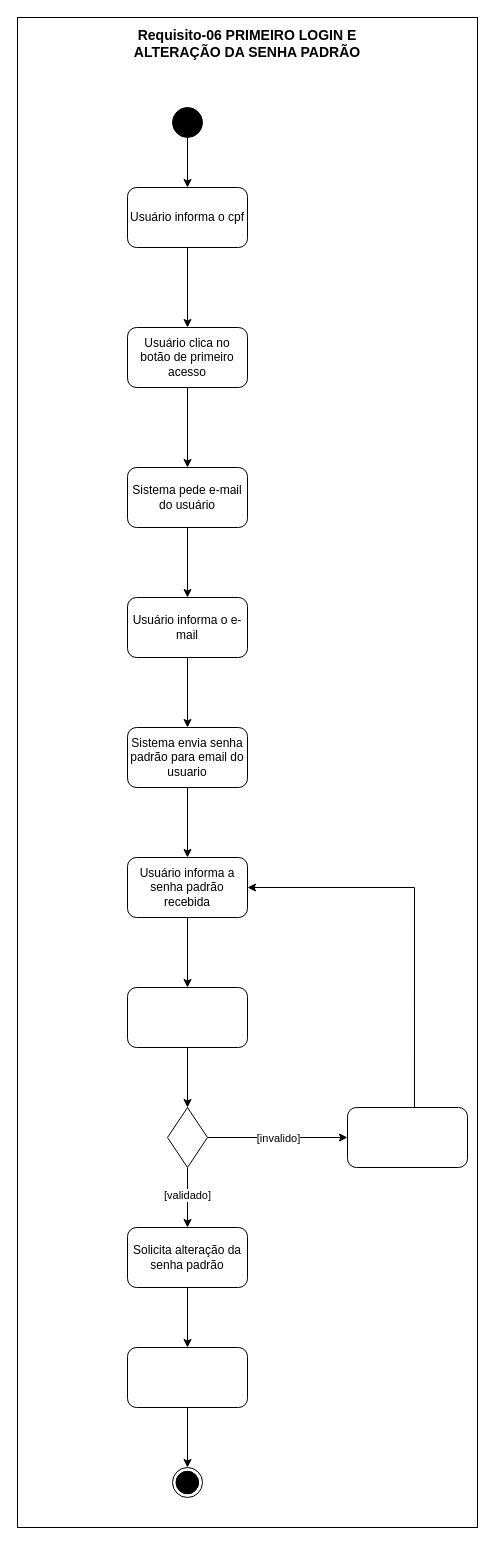
Image size: 495x1545. Some labels were removed from this diagram. Each missing label, with the box of its shape:
mensagem de erro para o usuário: (346, 1106, 468, 1168)
Sistema valida as credenciais: (126, 986, 248, 1048)
Usuário é redirecionado para a tela do sistema: (126, 1346, 248, 1408)
